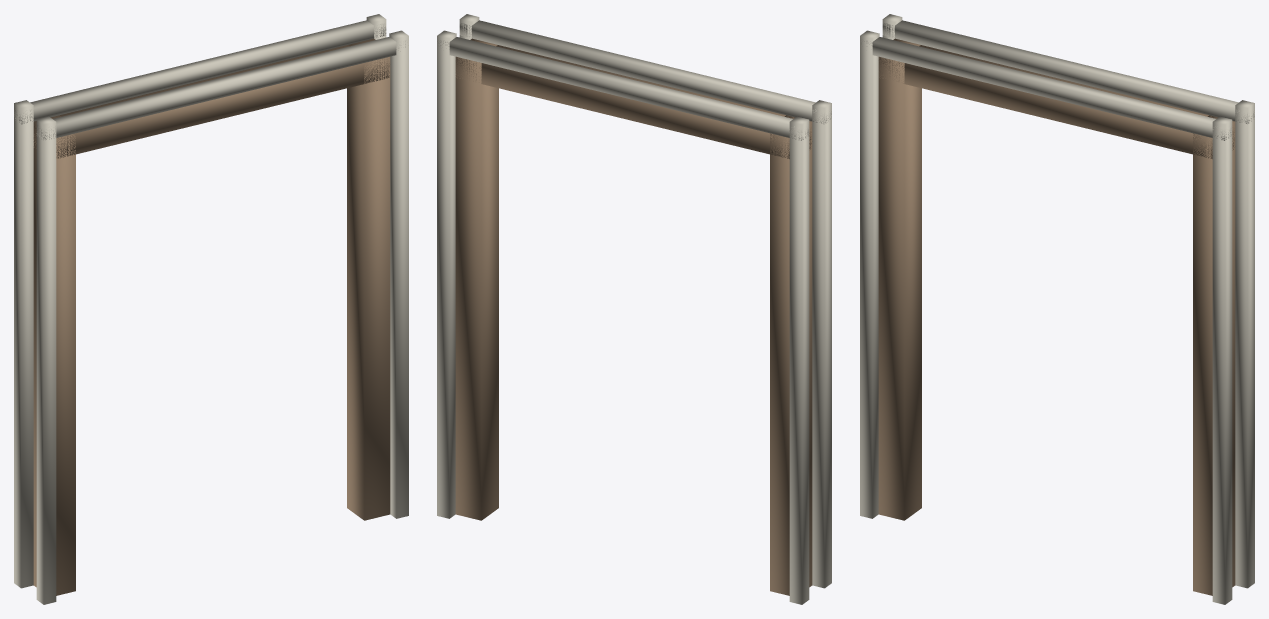
The model's file is doorway_painted_trim_w152_h220_d16.glb.
3 views of the same model, side by side, from view 1: azimuth 30°, elevation 25°; view 2: azimuth 150°, elevation 25°; view 3: azimuth 330°, elevation 25° (orthographic).
Visible parts, largest first — view 1: world; view 2: world; view 3: world.
Boxes of the visible parts, x1,y1,x2,y2 form: world: (14,14,408,604); world: (437,14,831,604); world: (860,14,1254,604).
Bounding box in the file's own units: 1.92 × 2.42 × 0.2716.
